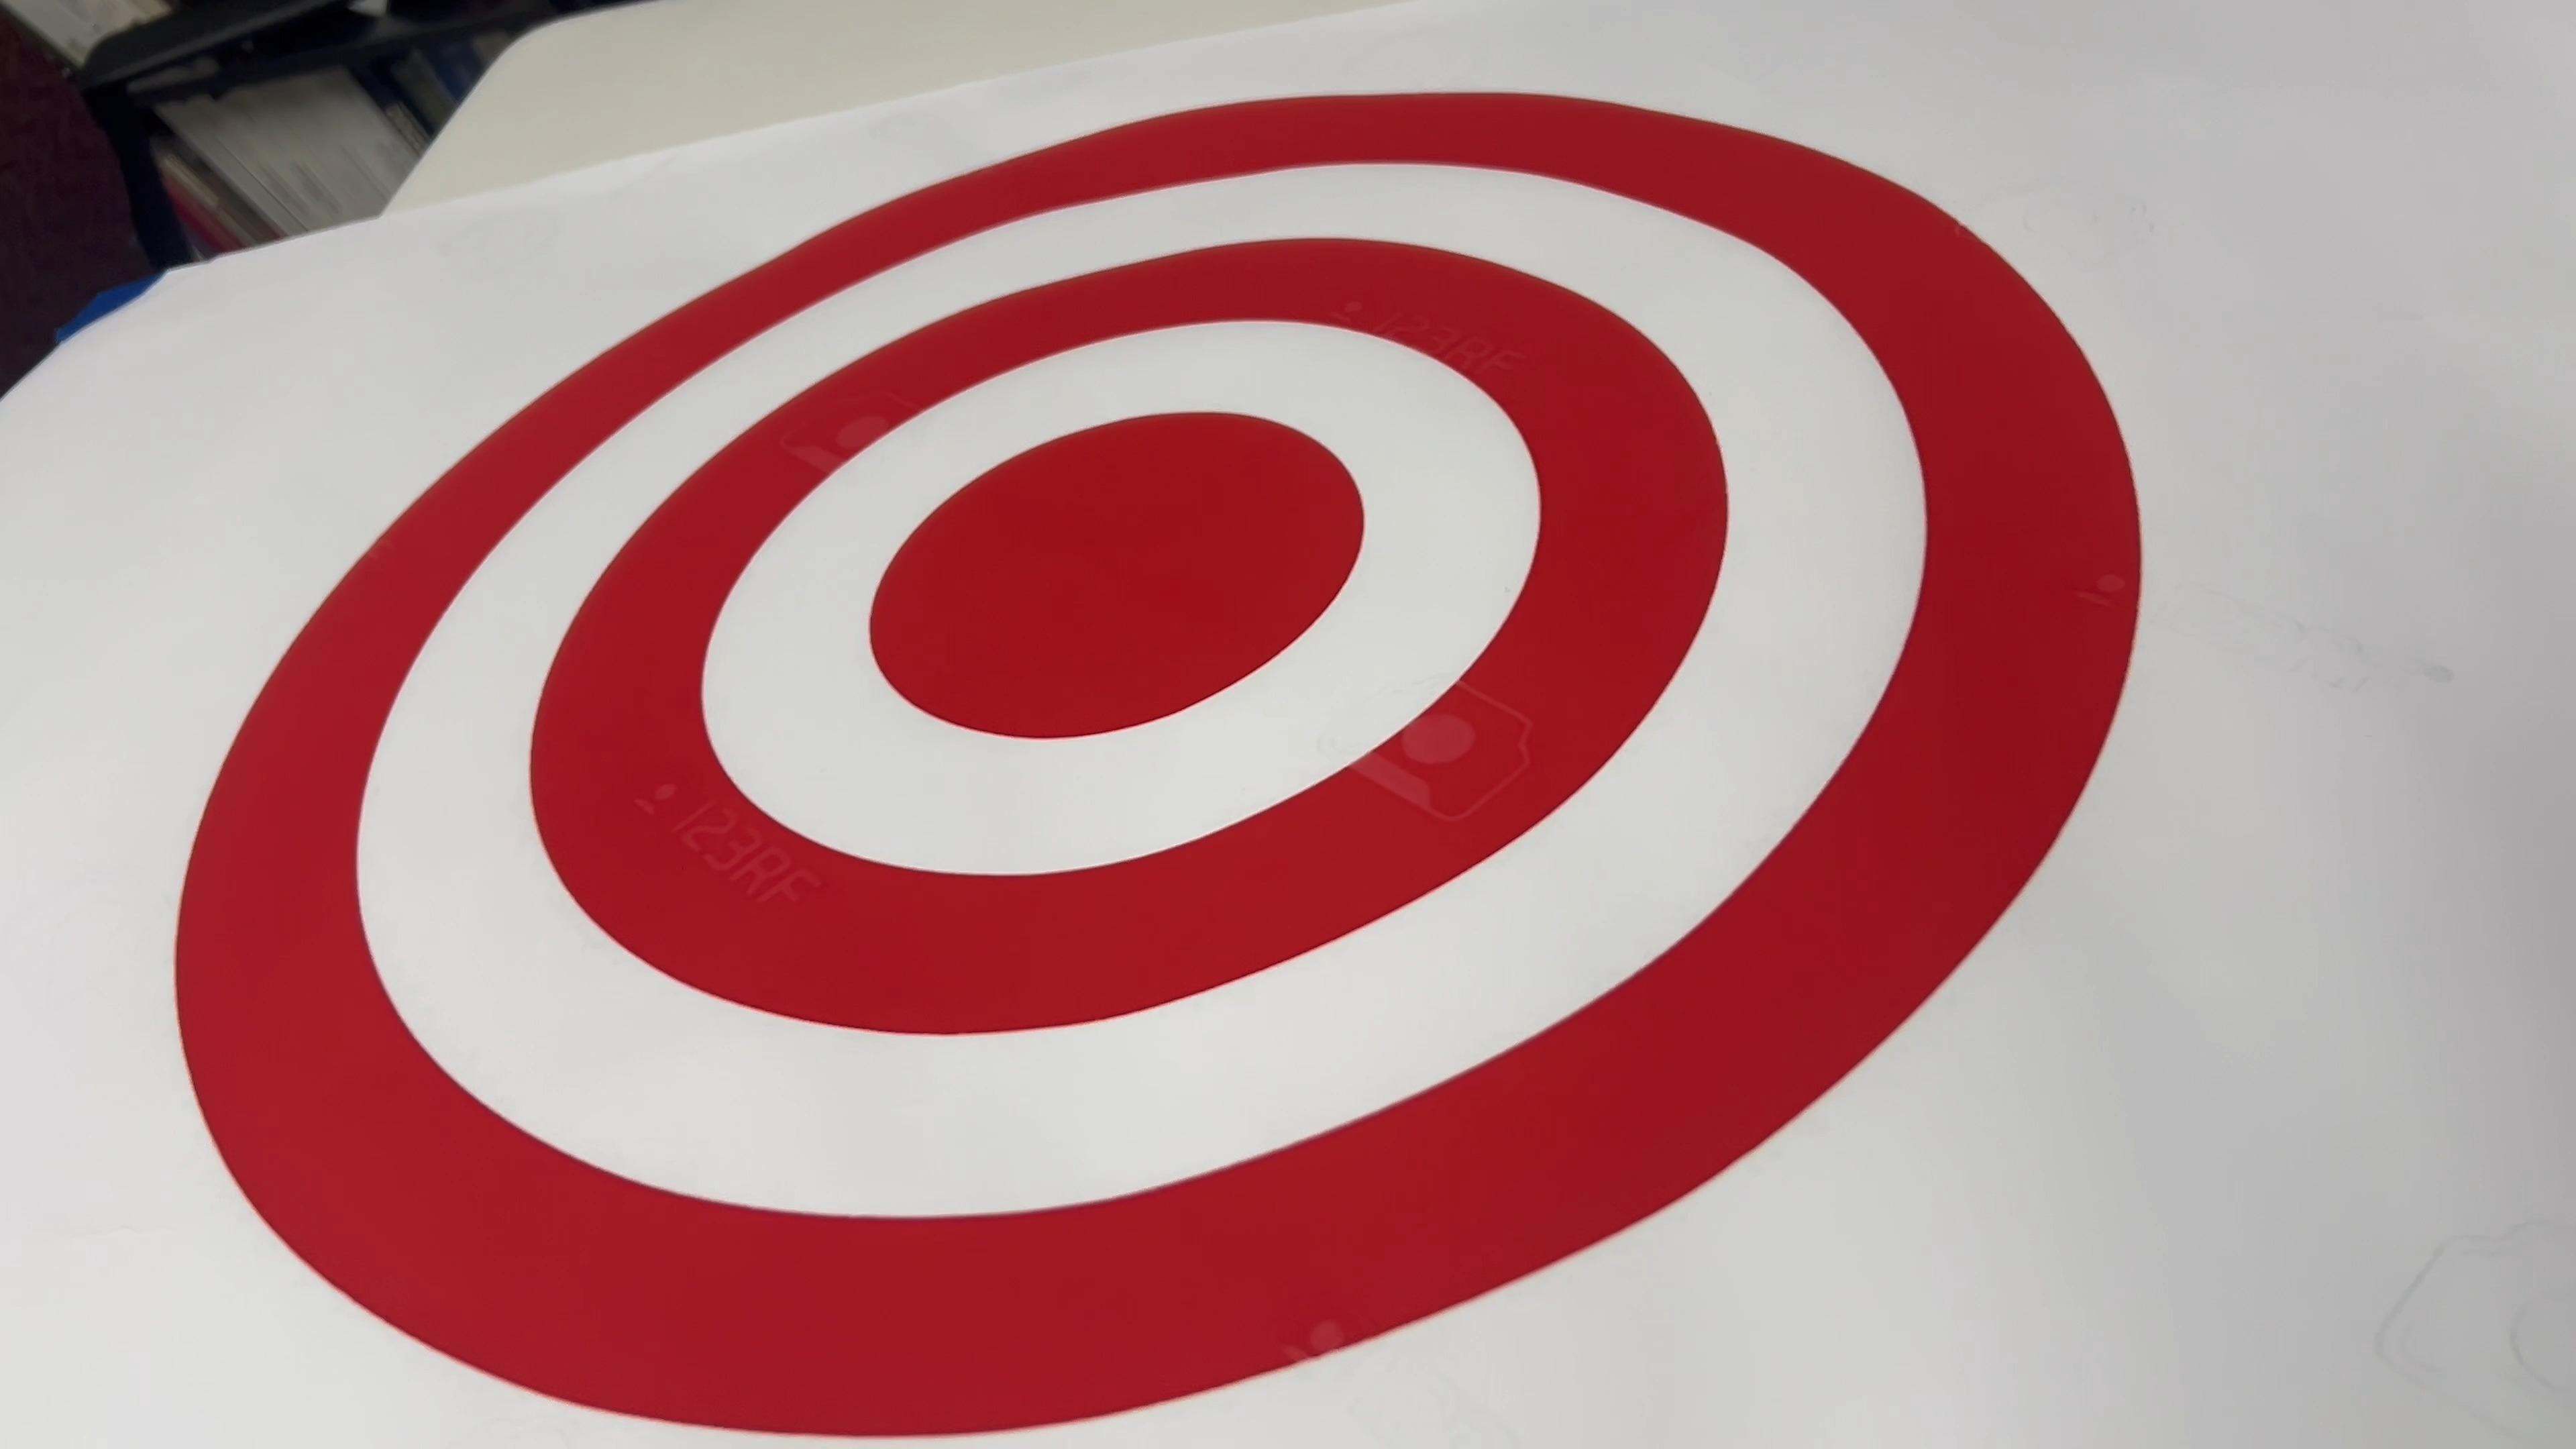target_red: (163, 55, 2238, 1449)
